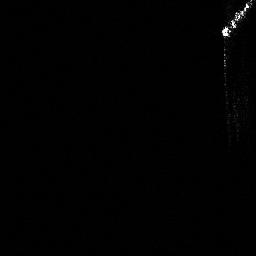ship: (218, 1, 255, 41)
